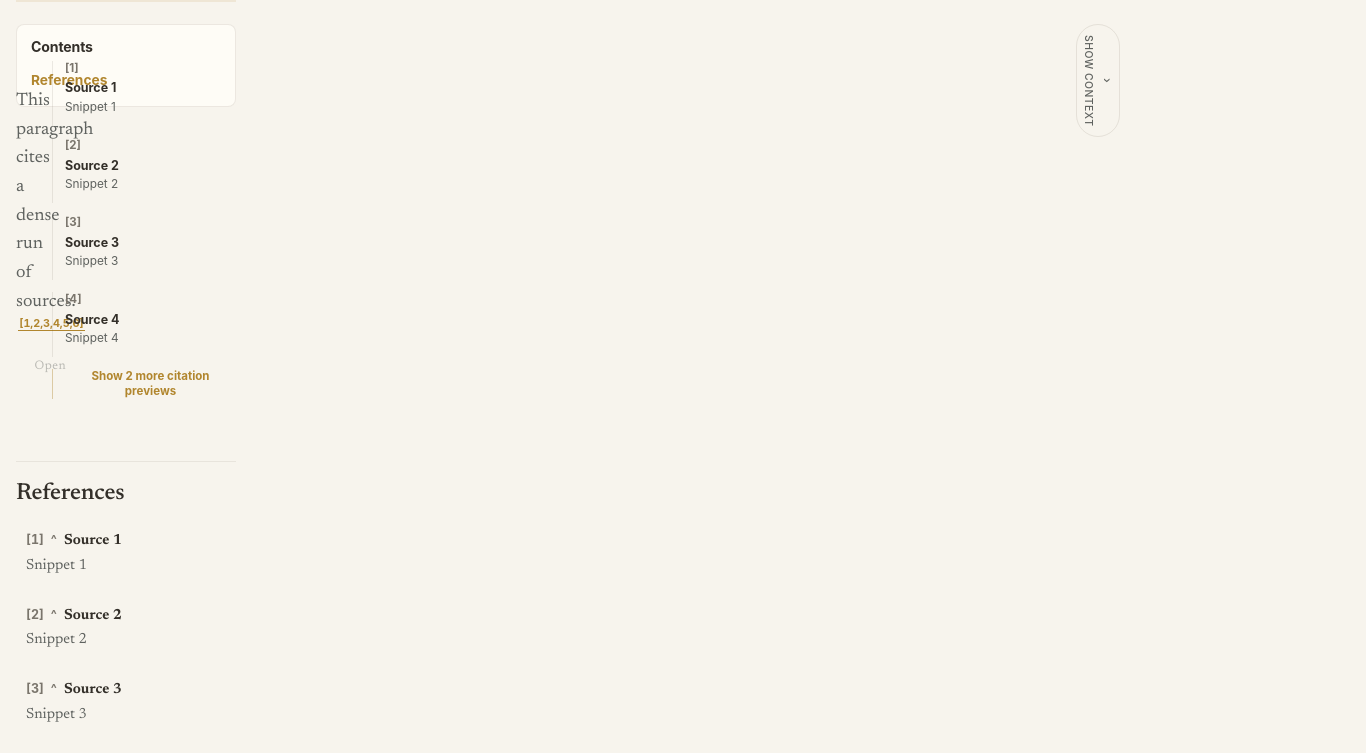
Test case: WikiPageReadView › collapses overflowing citation marginalia until the reader expands it
(page scrolled)
Expected: the 1st text "Source 1" is shown, [65,80,116,96]
Expected: the 1st text "Source 4" is shown, [65,312,120,327]
Click the button "Show 2 more citation previews". click: [144, 384]
box: [52,369,236,399]
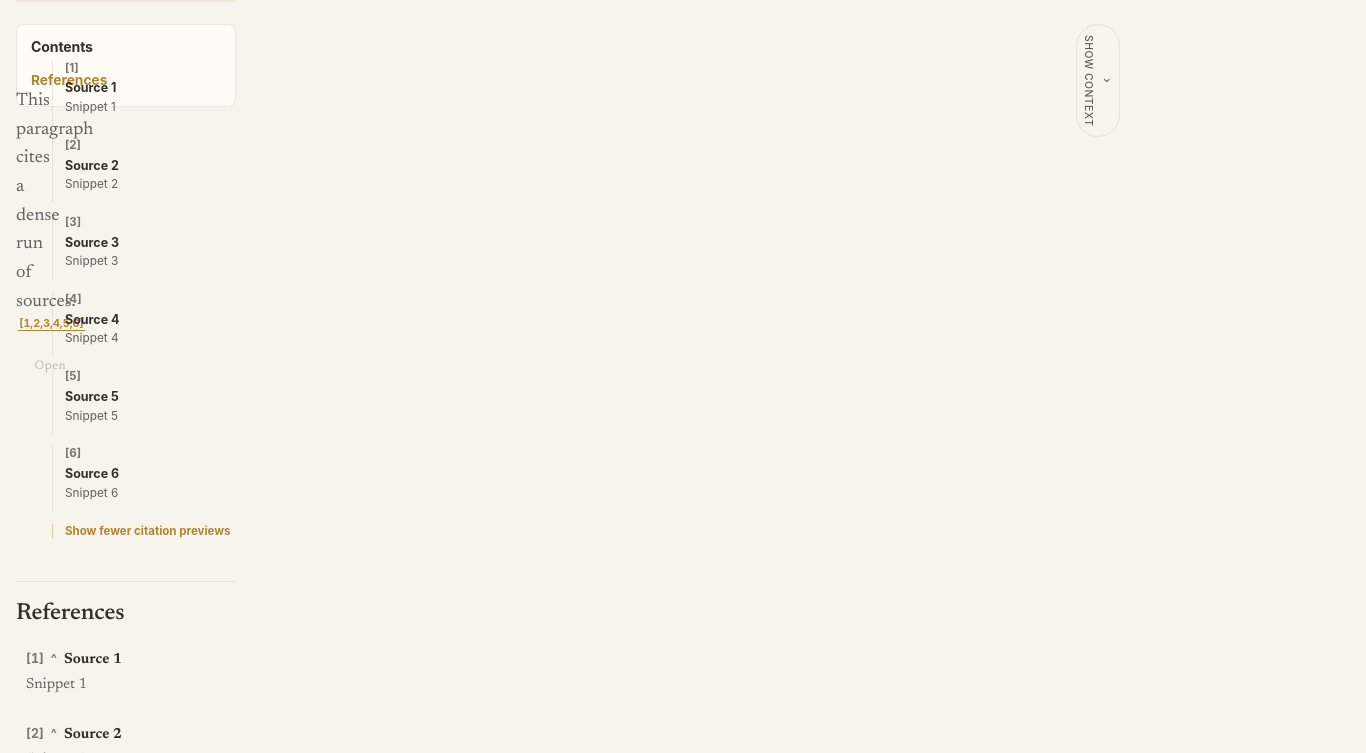
Expected: the text "Source 6" is shown, [65,466,119,481]
Expected: the button "Show fewer citation previews" is shown, [52,524,230,539]
